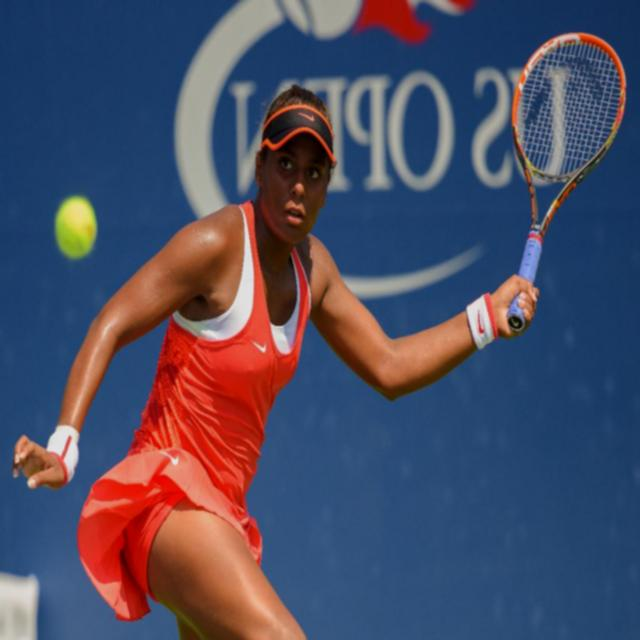Tennis Ball: (54, 195, 96, 265)
